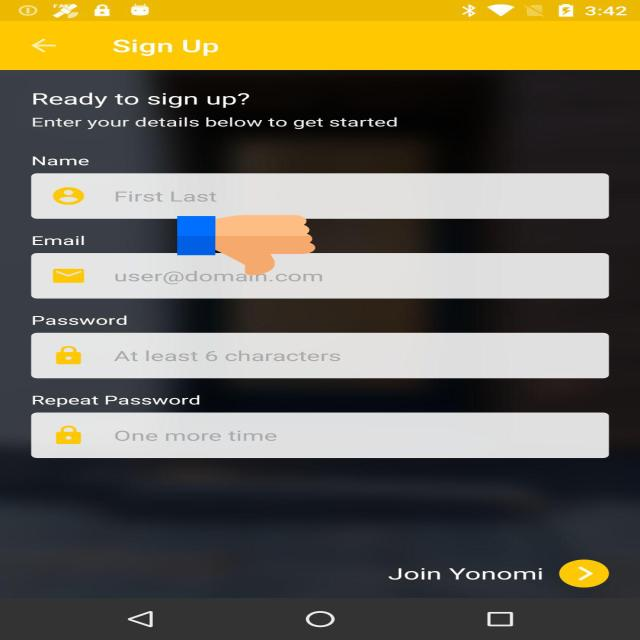obstruction: (177, 213, 315, 277)
